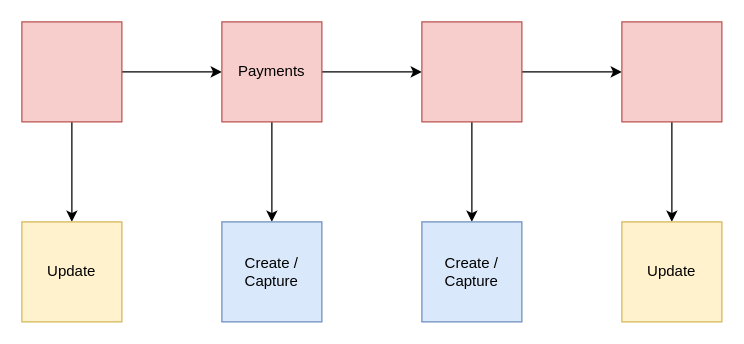
Image size: 744x344. Some labels were removed from this diagram. Here are the shapes that lost their labels. From the top down, the centre of each, then its label:
At pixel 71 71: "Books".
At pixel 471 71: "Shipping Details".
At pixel 671 71: "Prices".
